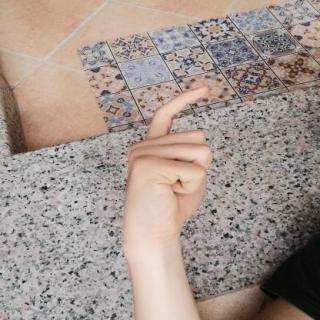RAA: (107, 78, 220, 244)
